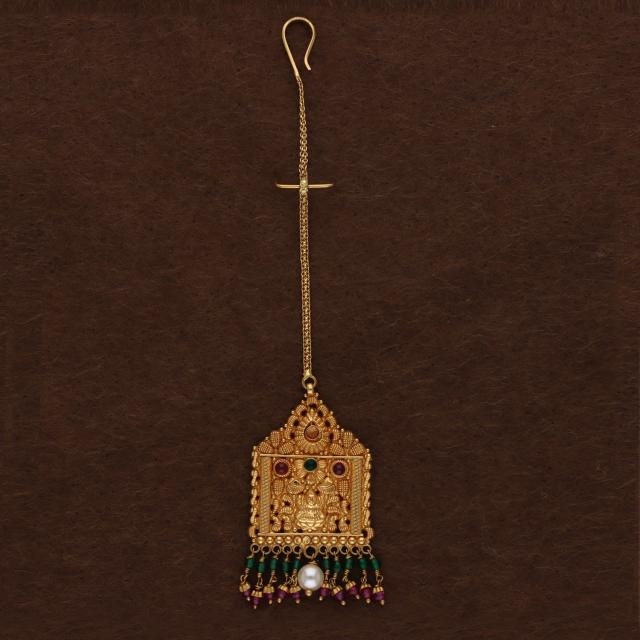missing gem: (306, 427, 319, 439)
